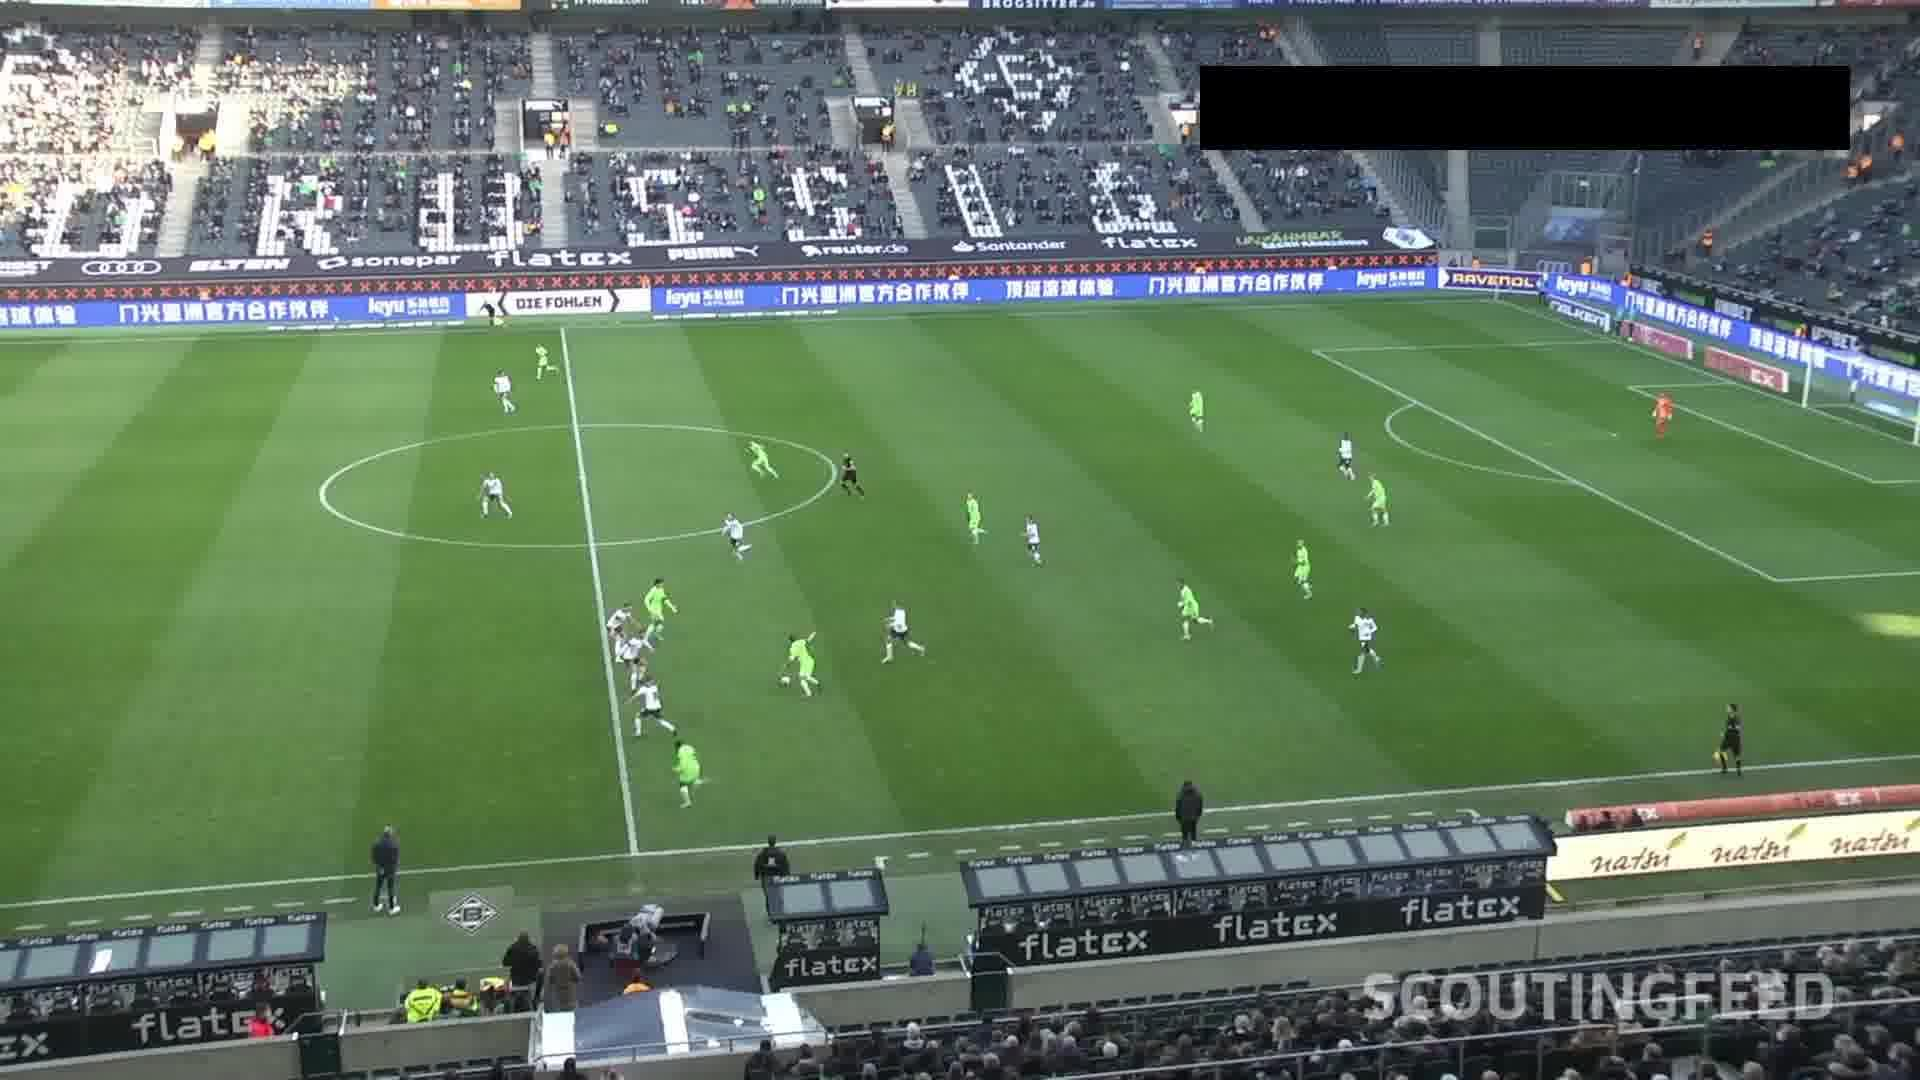football: (778, 674, 793, 687)
